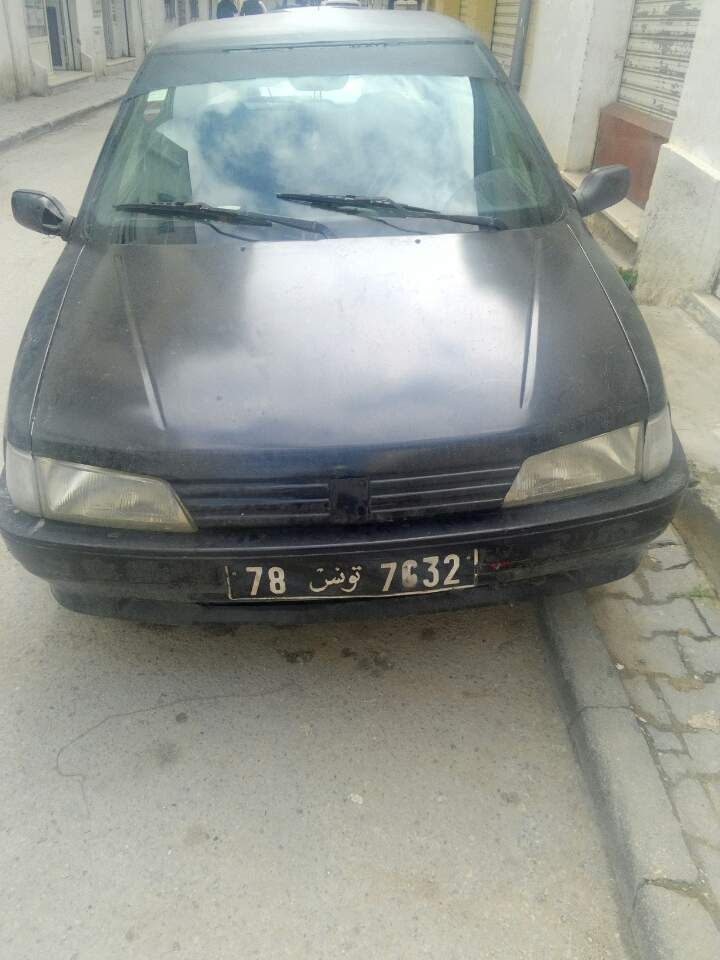LP: (221, 546, 478, 600)
